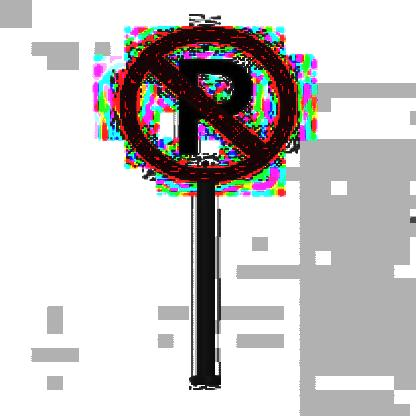No parking: (105, 25, 295, 185)
